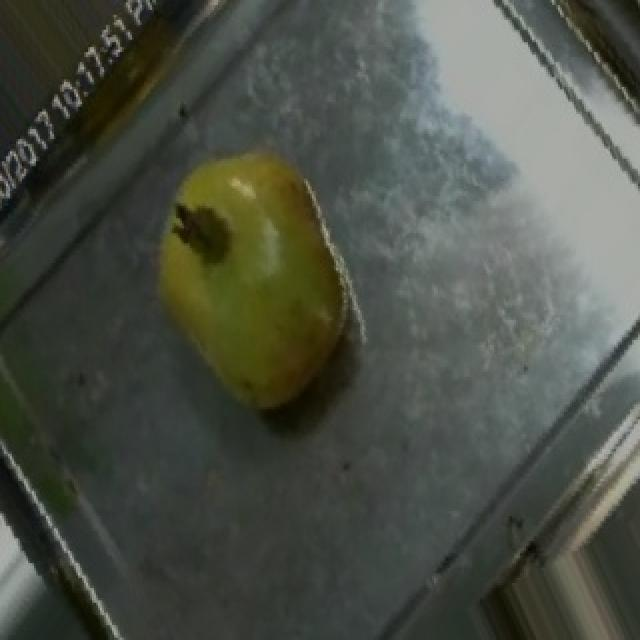fruit: (128, 122, 378, 352)
